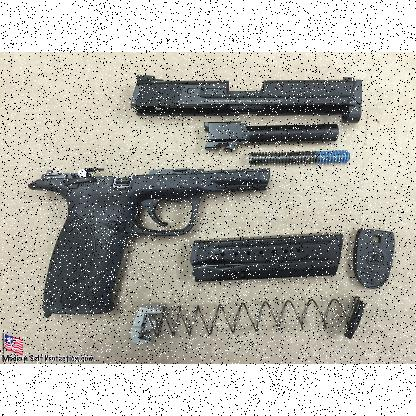gun: (26, 166, 270, 316)
